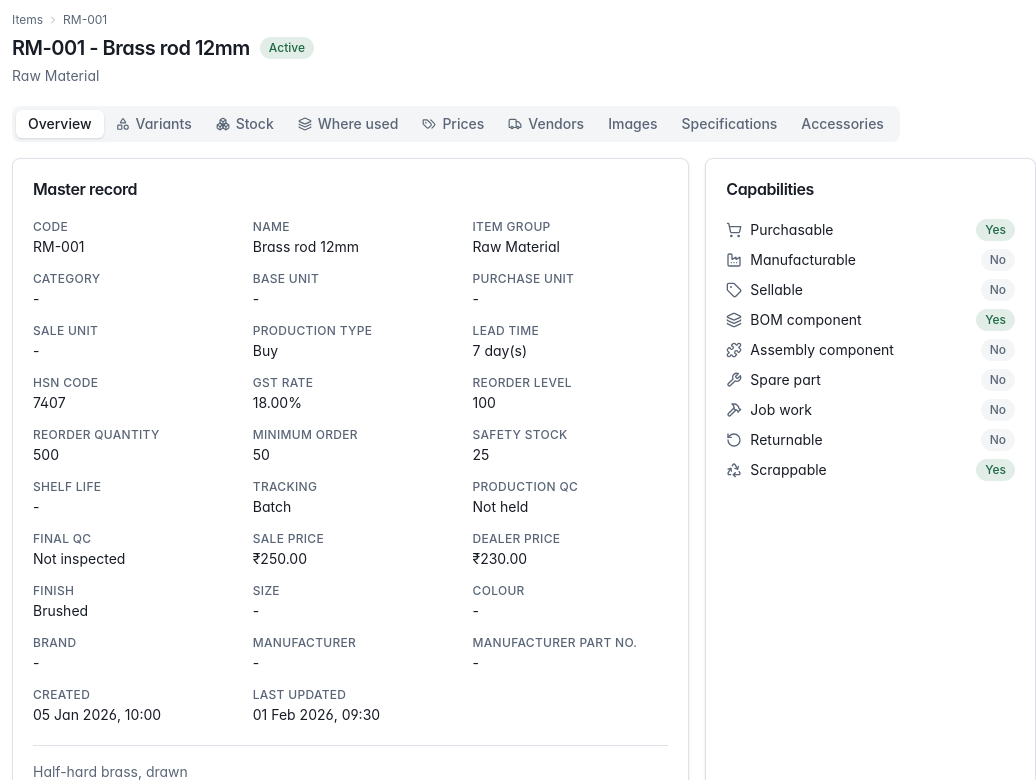
Test: the tab panels › explains rather than queries when the price right is missing
expect the heading "RM-001 - Brass rod 12mm" is shown: met, box [12,34,250,62]
Click the tab "Prices". click: (453, 124)
box: [410,110,496,138]
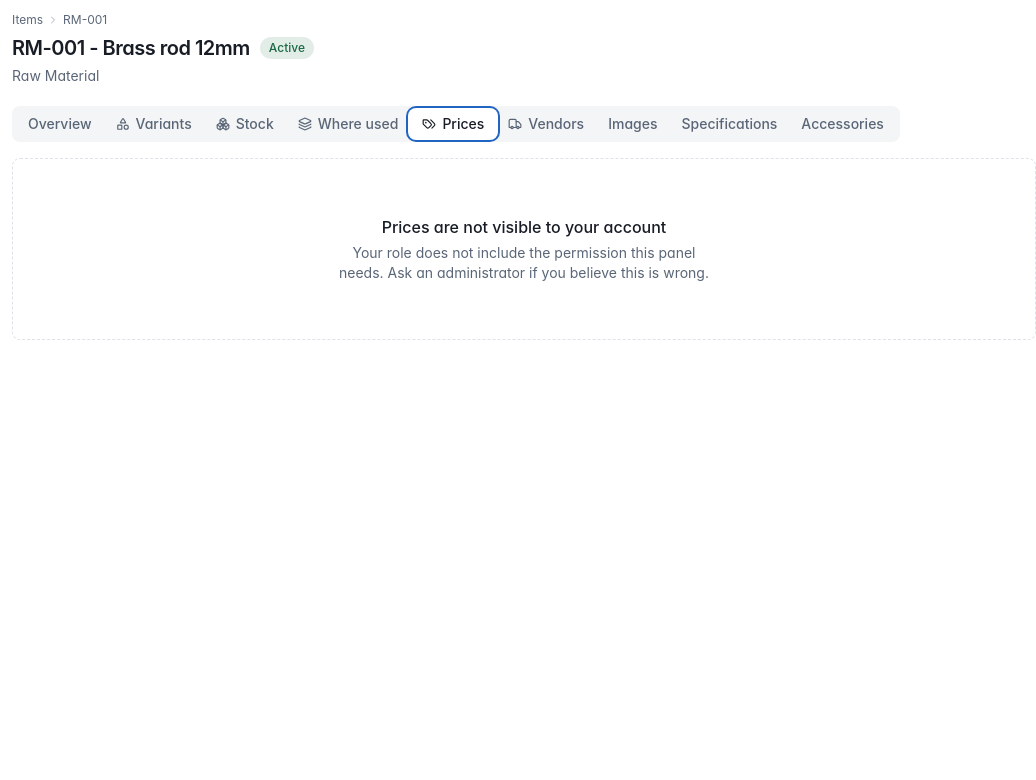
expect the text "Prices are not visible to your account" is shown: met, box [382,217,666,237]
